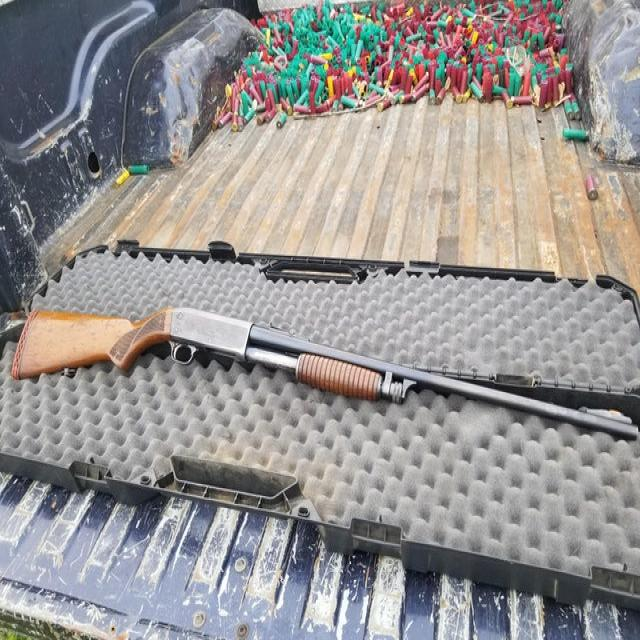ShotGun: (9, 308, 640, 441)
